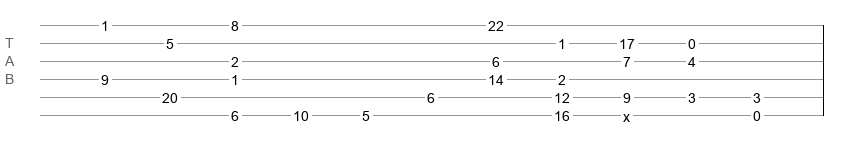0: (688, 36, 696, 46), (753, 108, 761, 118)
1: (101, 18, 109, 28), (231, 72, 239, 82), (558, 36, 566, 46)
10: (293, 108, 309, 118)
12: (554, 90, 570, 100)
14: (488, 72, 504, 82)
16: (554, 108, 570, 118)
17: (619, 36, 635, 46)
2: (231, 54, 239, 64), (558, 72, 566, 82)
20: (162, 90, 178, 100)
22: (488, 18, 504, 28)
3: (688, 90, 696, 100), (753, 90, 761, 100)
4: (688, 54, 696, 64)
5: (166, 36, 174, 46), (362, 108, 370, 118)
6: (231, 108, 239, 118), (427, 90, 435, 100), (492, 54, 500, 64)
7: (623, 54, 631, 64)
8: (231, 18, 239, 28)
9: (101, 72, 109, 82), (623, 90, 631, 100)
x: (623, 109, 630, 117)
